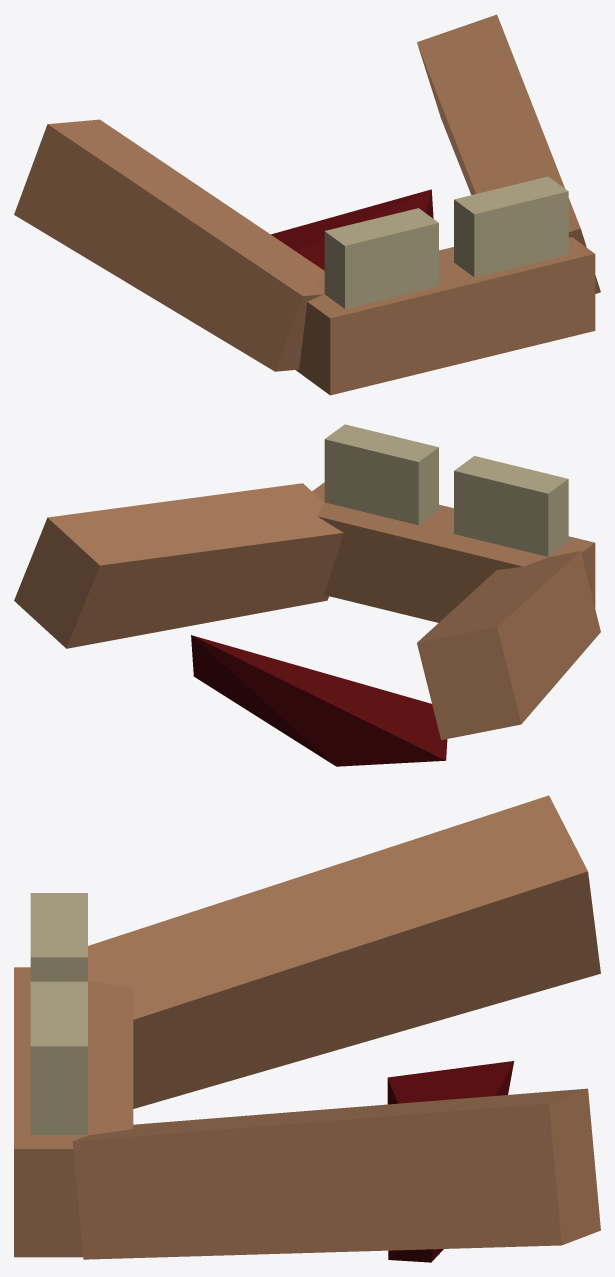
Rendered from gib_10.glb.
3 views of the same model, one above another, from view 1: azimuth 30°, elevation 25°; view 2: azimuth 150°, elevation 25°; view 3: azimuth 270°, elevation 25° (orthographic). The views are drawn at different scales.
Visible parts, largest first — view 1: gib_10; view 2: gib_10; view 3: gib_10.
Boxes of the visible parts, bbox=[...] form: gib_10: bbox=[14, 14, 600, 395]; gib_10: bbox=[14, 424, 600, 766]; gib_10: bbox=[14, 795, 600, 1262].
Bounding box in the file's own units: 0.1724 × 0.0648 × 0.1229.
